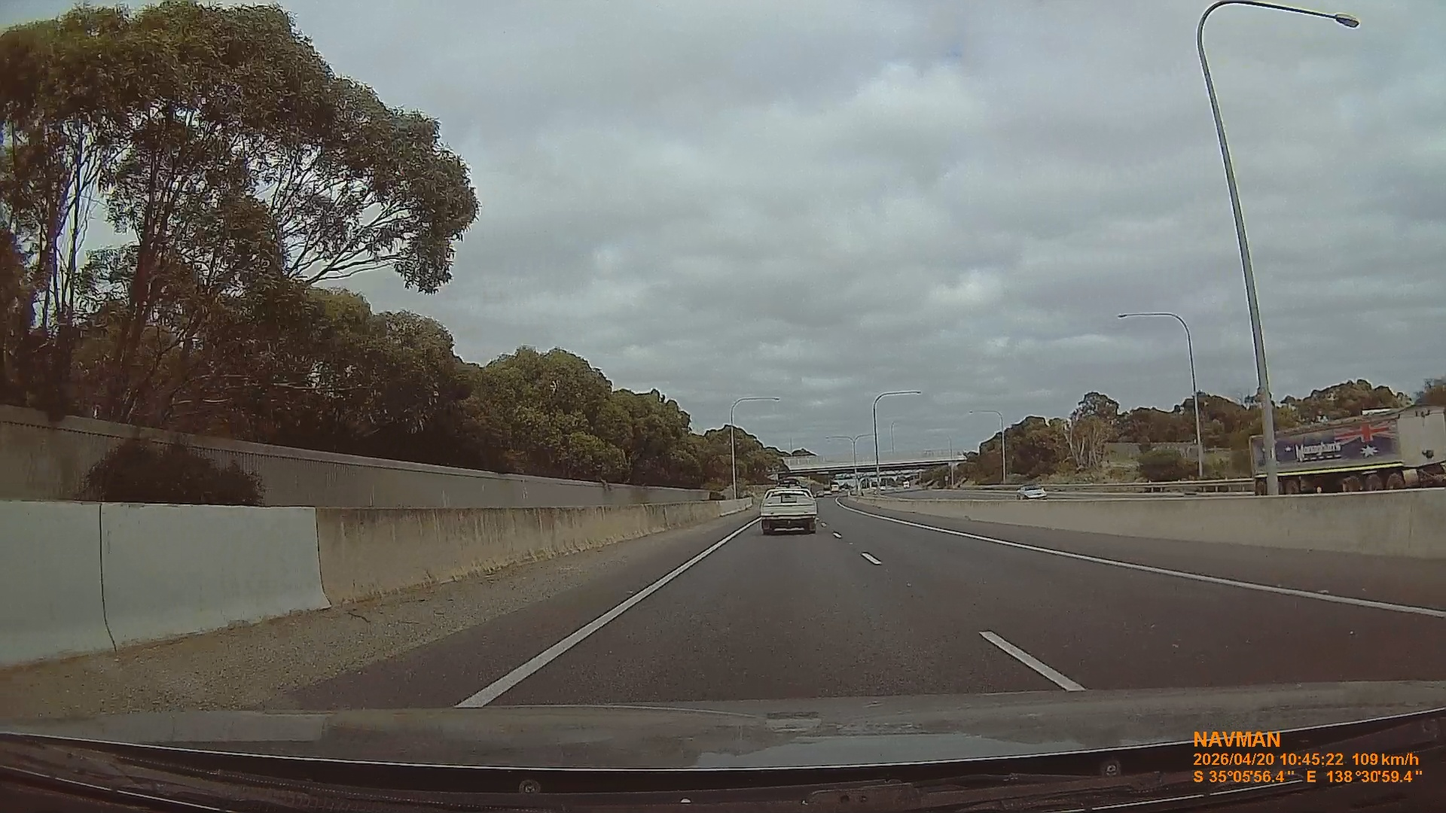road barriers: (0, 415, 725, 662), (853, 489, 1444, 566)
